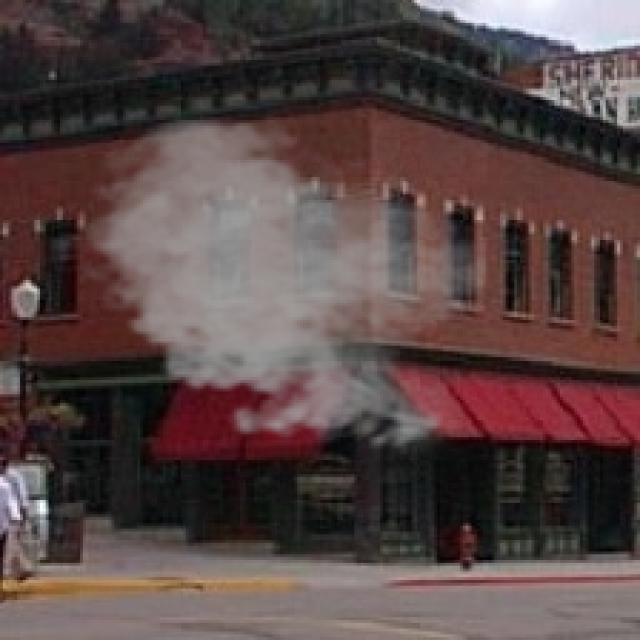Smoke: (71, 108, 492, 460)
